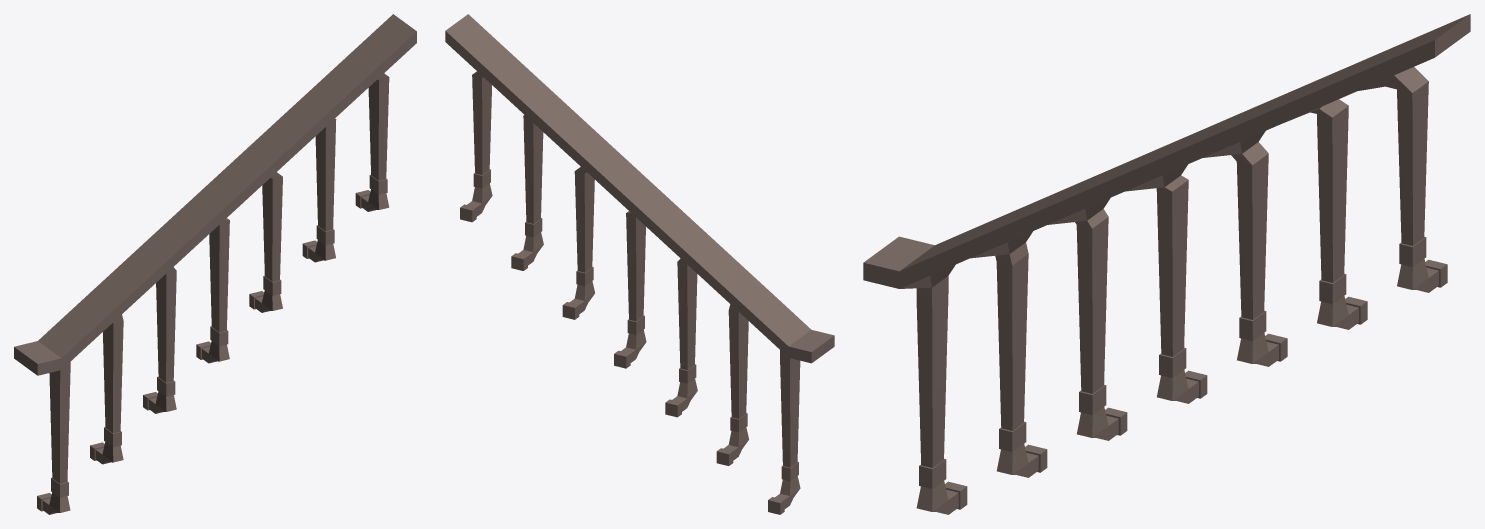
File: HAND_R_001.fbx
3 renders of one model, left to right at view 1: azimuth 30°, elevation 25°; view 2: azimuth 150°, elevation 25°; view 3: azimuth 330°, elevation 25°, orthographic. The views are drawn at different scales.
Visible parts, largest first — view 1: HAND_R.001; view 2: HAND_R.001; view 3: HAND_R.001.
Part boxes in pixels (bbox=[...]): HAND_R.001: bbox=[14, 14, 416, 514]; HAND_R.001: bbox=[445, 14, 834, 514]; HAND_R.001: bbox=[863, 14, 1470, 514].
Size of the model in its own units: 560 by 581 by 73.05.
